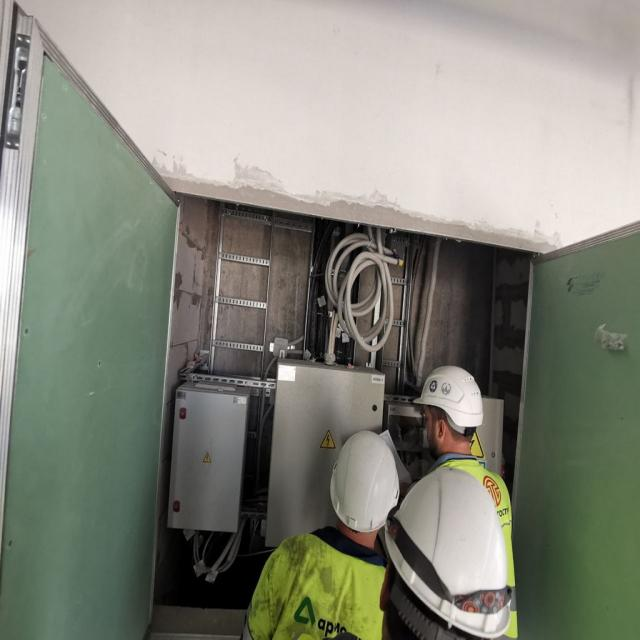Helmet: (375, 466, 516, 640), (327, 431, 402, 541), (411, 365, 486, 438)
Jacket: (254, 531, 387, 640)
